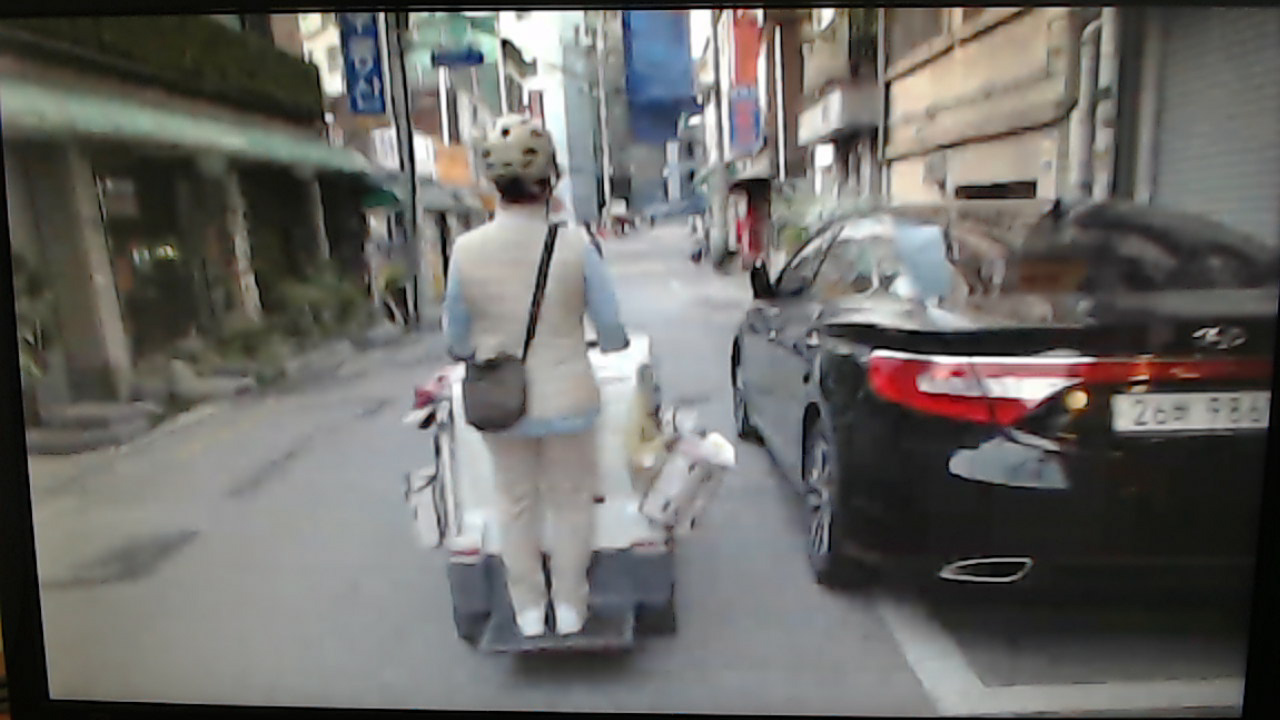Yakurut: (440, 113, 650, 661)
